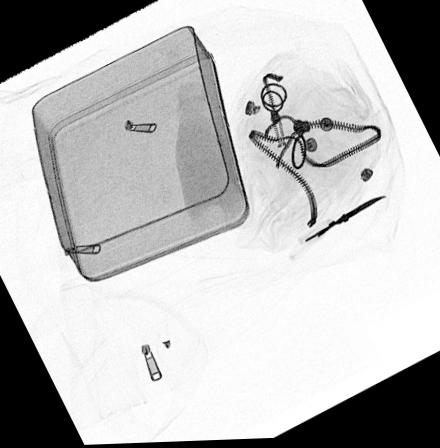Scissors: (287, 196, 385, 264)
